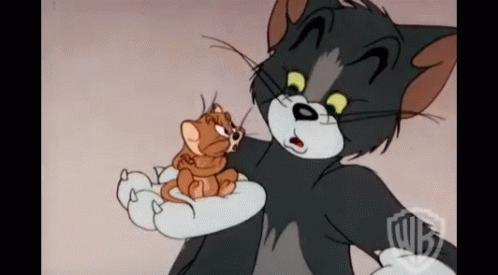jerry: (159, 91, 251, 216)
